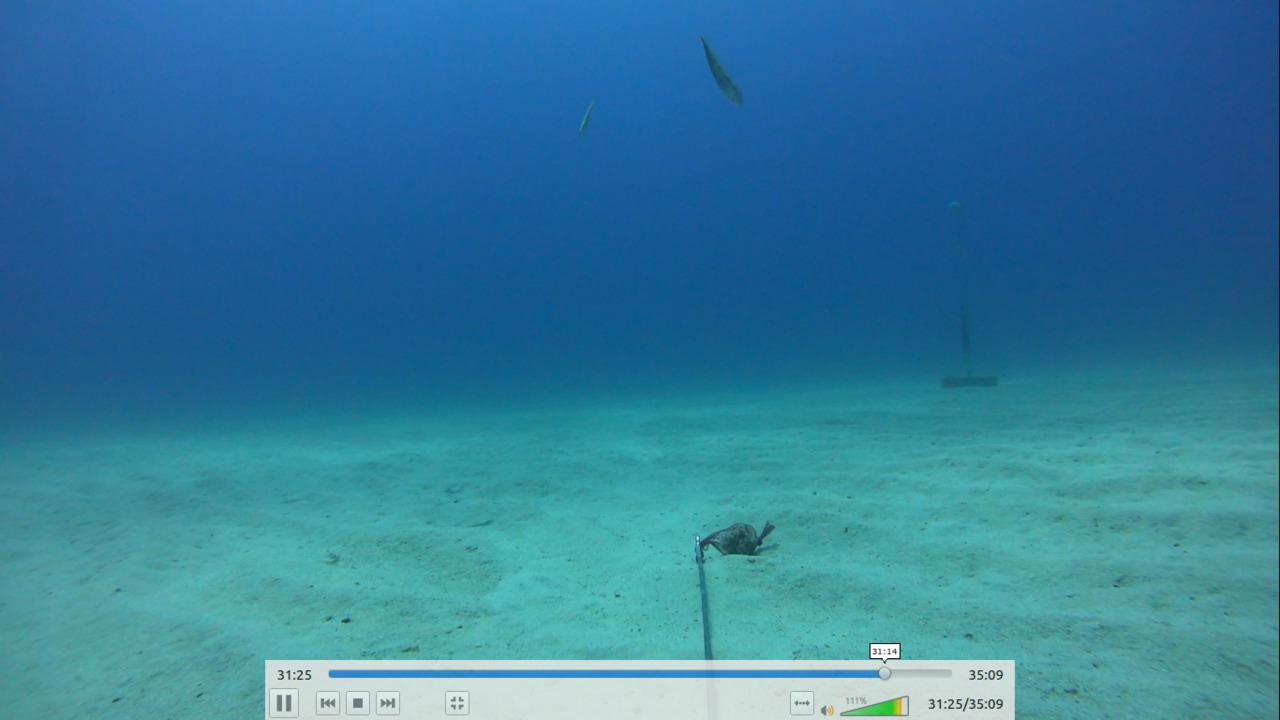raor: (690, 20, 754, 110)
